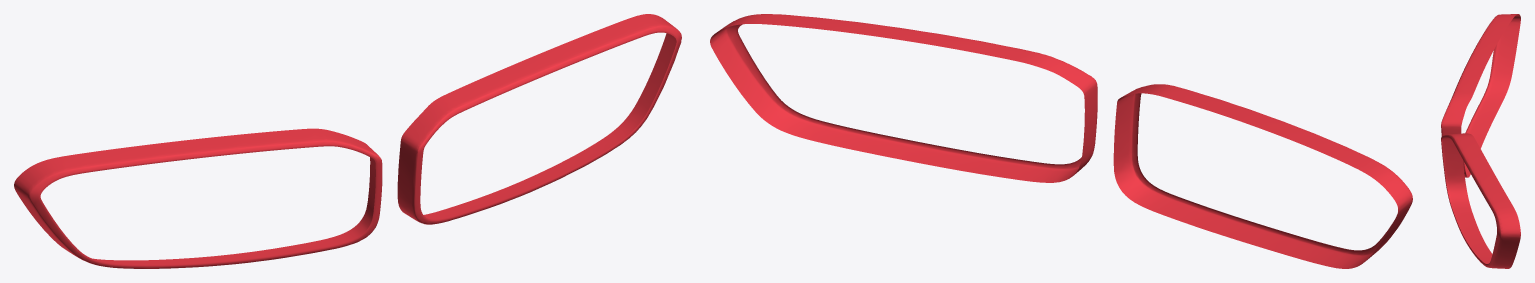
Rendered from b_Kit1_Paint_Geo_lodA_Kit1_Paint_Geo_lodA_BMW_i8_7fd7376c.glb.
3 views of the same model, side by side, from view 1: azimuth 30°, elevation 25°; view 2: azimuth 150°, elevation 25°; view 3: azimuth 270°, elevation 25° (orthographic). The views are drawn at different scales.
Visible parts, largest first — view 1: b:Kit1_Paint_Geo_lodA_Kit1_Paint_Geo_lodA_BMW_i8Elite_2017Pa; view 2: b:Kit1_Paint_Geo_lodA_Kit1_Paint_Geo_lodA_BMW_i8Elite_2017Pa; view 3: b:Kit1_Paint_Geo_lodA_Kit1_Paint_Geo_lodA_BMW_i8Elite_2017Pa.
Part boxes in pixels (x1,y1,x2,y2): b:Kit1_Paint_Geo_lodA_Kit1_Paint_Geo_lodA_BMW_i8Elite_2017Pa: (14,14,681,268); b:Kit1_Paint_Geo_lodA_Kit1_Paint_Geo_lodA_BMW_i8Elite_2017Pa: (710,14,1412,268); b:Kit1_Paint_Geo_lodA_Kit1_Paint_Geo_lodA_BMW_i8Elite_2017Pa: (1441,14,1520,268).
Bounding box in the file's own units: 0.8324 × 0.1451 × 0.1304.
